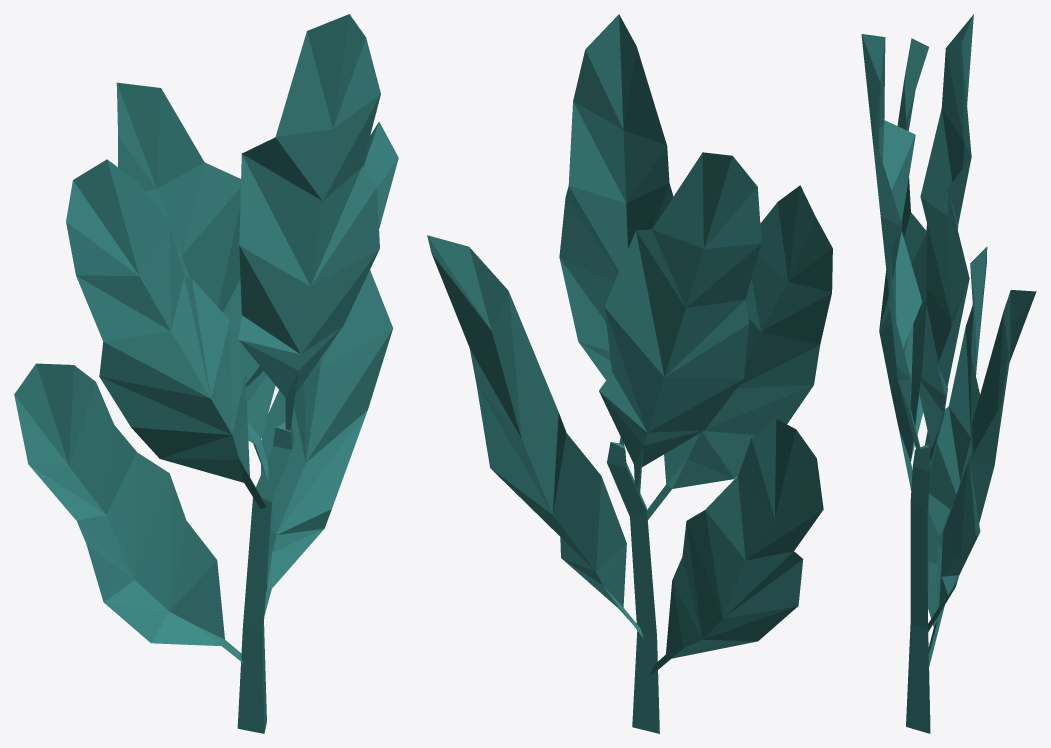
The model's file is SM_Seaweed_Sea_Beech_B.fbx.
3 views of the same model, side by side, from view 1: azimuth 30°, elevation 25°; view 2: azimuth 150°, elevation 25°; view 3: azimuth 270°, elevation 25° (orthographic). The views are drawn at different scales.
Parts seen in each view (by area): view 1: seaweed-sea-beech-b; view 2: seaweed-sea-beech-b; view 3: seaweed-sea-beech-b.
Boxes of the visible parts, <box> form: seaweed-sea-beech-b: <box>14,14,398,733</box>; seaweed-sea-beech-b: <box>427,14,832,733</box>; seaweed-sea-beech-b: <box>861,14,1036,733</box>.
Bounding box in the file's own units: 0.6791 × 1.18 × 0.2583.
